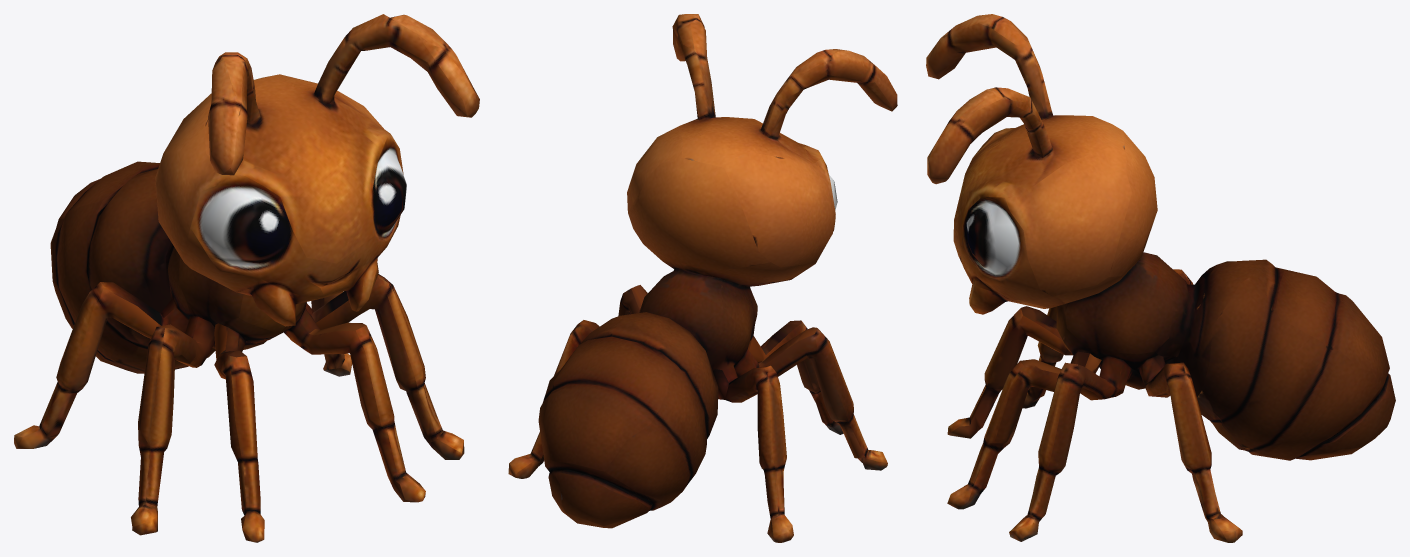
Rendered from Ant.glb.
3 views of the same model, side by side, from view 1: azimuth 30°, elevation 25°; view 2: azimuth 150°, elevation 25°; view 3: azimuth 270°, elevation 25° (orthographic). The views are drawn at different scales.
Size of the model in its own units: 1.46 by 1.95 by 1.98.
Materials: 1 (1 with a texture image).
